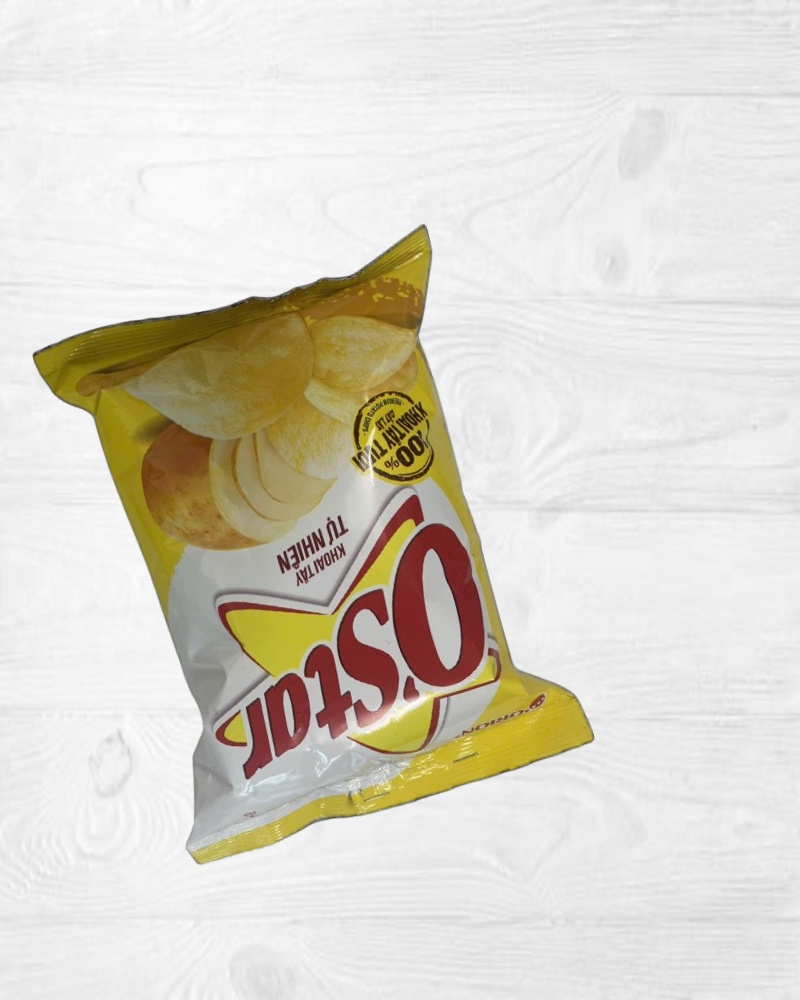Snack cua: (33, 223, 596, 865)
